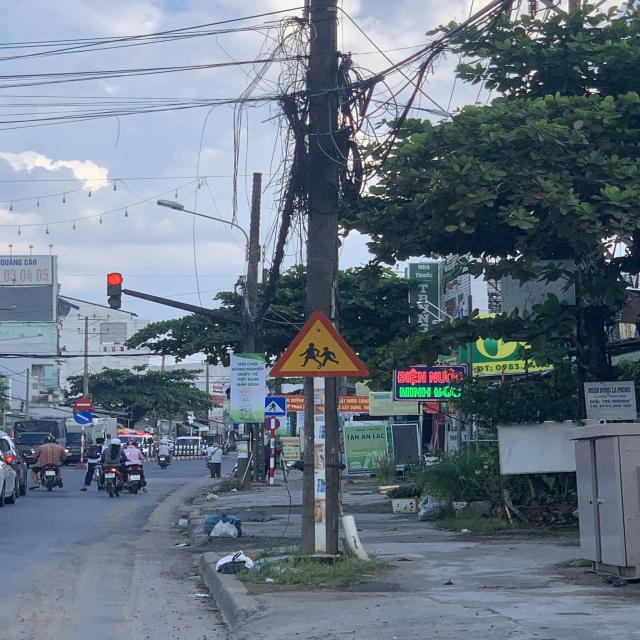Vong_Xuyen: (268, 310, 372, 377)
